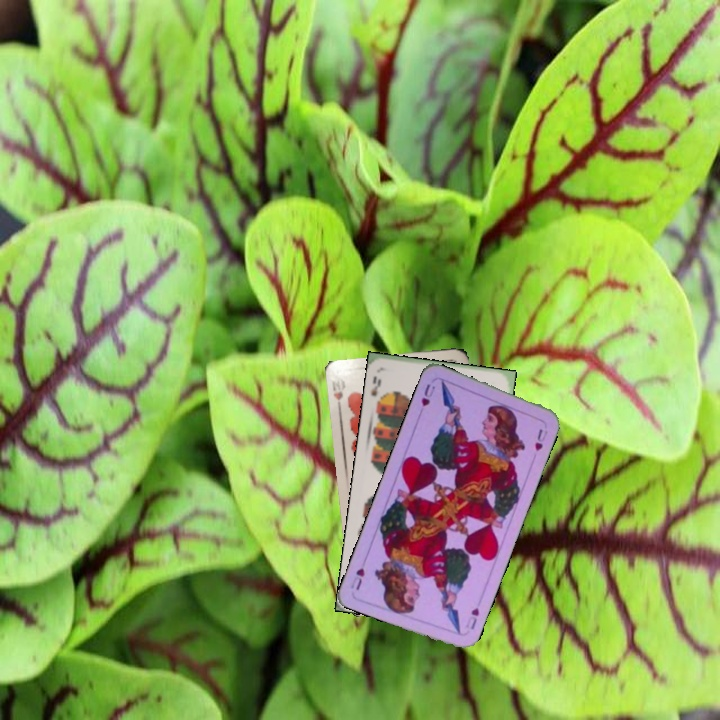H10: (330, 373, 348, 414)
HU: (417, 380, 438, 409), (462, 603, 482, 632)
S9: (366, 372, 386, 409)
